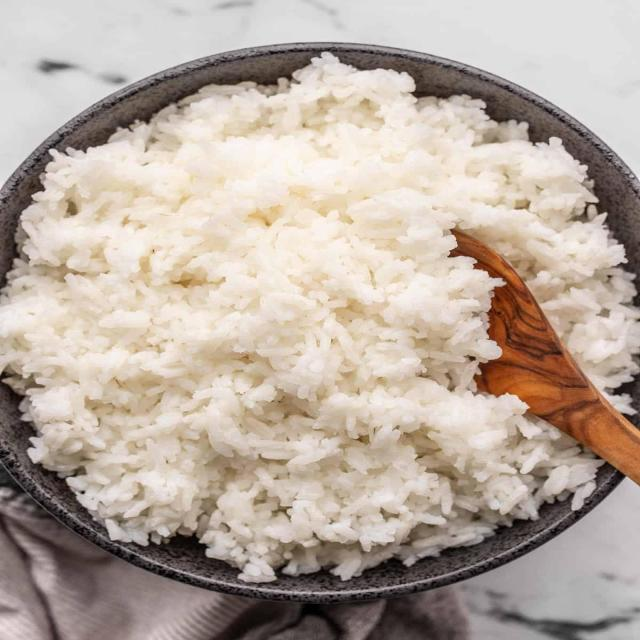rice: (7, 65, 636, 578)
